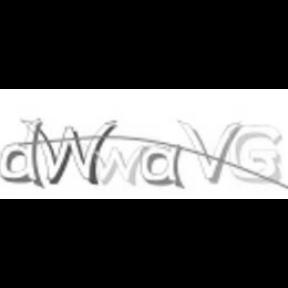G: (224, 123, 284, 183)
V: (176, 116, 242, 182)
W: (22, 117, 118, 185)
a: (139, 142, 185, 188)
d: (2, 115, 42, 189)
w: (86, 142, 148, 186)
